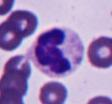N: (30, 26, 84, 77)
